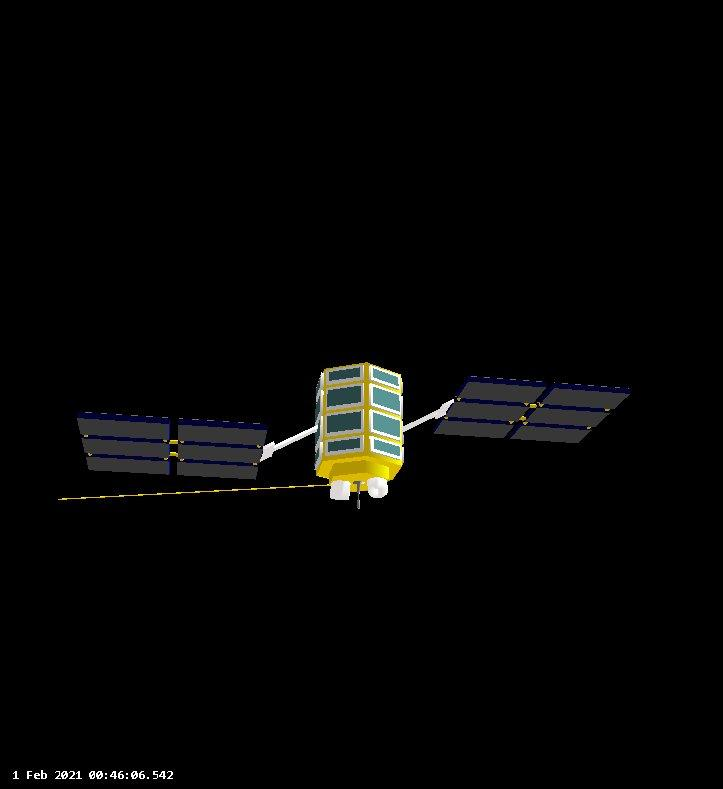antenna: (52, 480, 334, 504), (353, 475, 365, 514)
body: (310, 361, 408, 495)
solar: (75, 405, 274, 484), (429, 373, 634, 448)
thruster: (365, 471, 388, 500), (326, 478, 354, 501)
